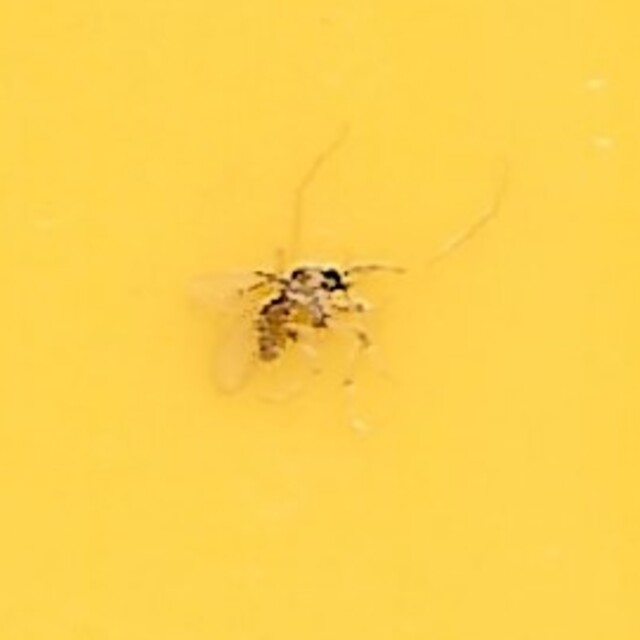Nematocera: (236, 256, 404, 384)
